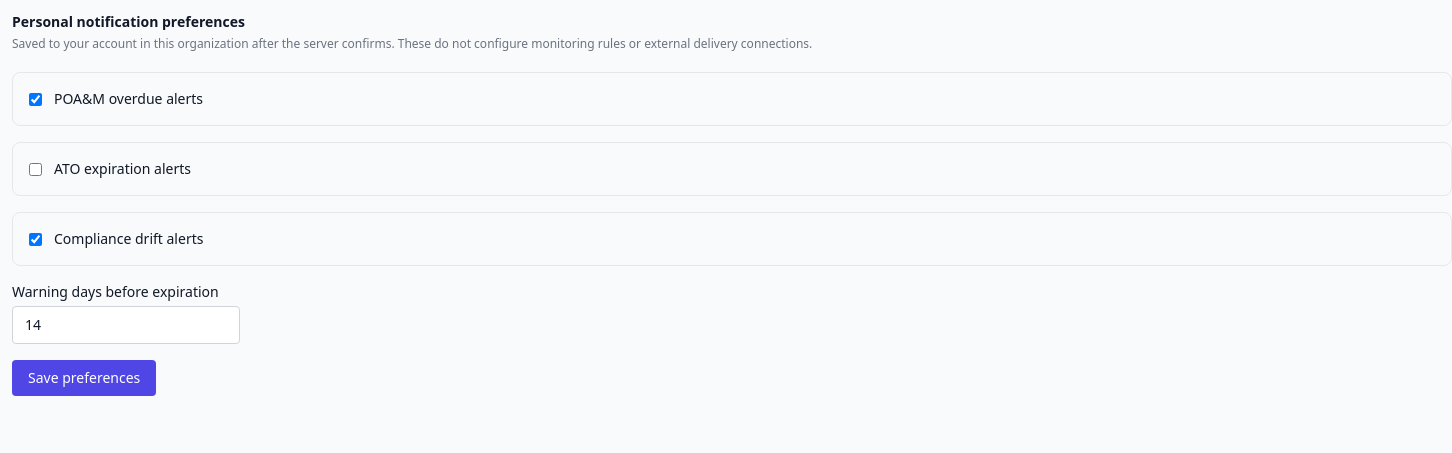
Test: notification preferences contract › retries the unsaved values and shows Saving then Saved only after confirmation
Replace the text in the number field labelled "Warning days before expiration" with "7". click: {"x": 126, "y": 325}
box: [12, 306, 240, 344]
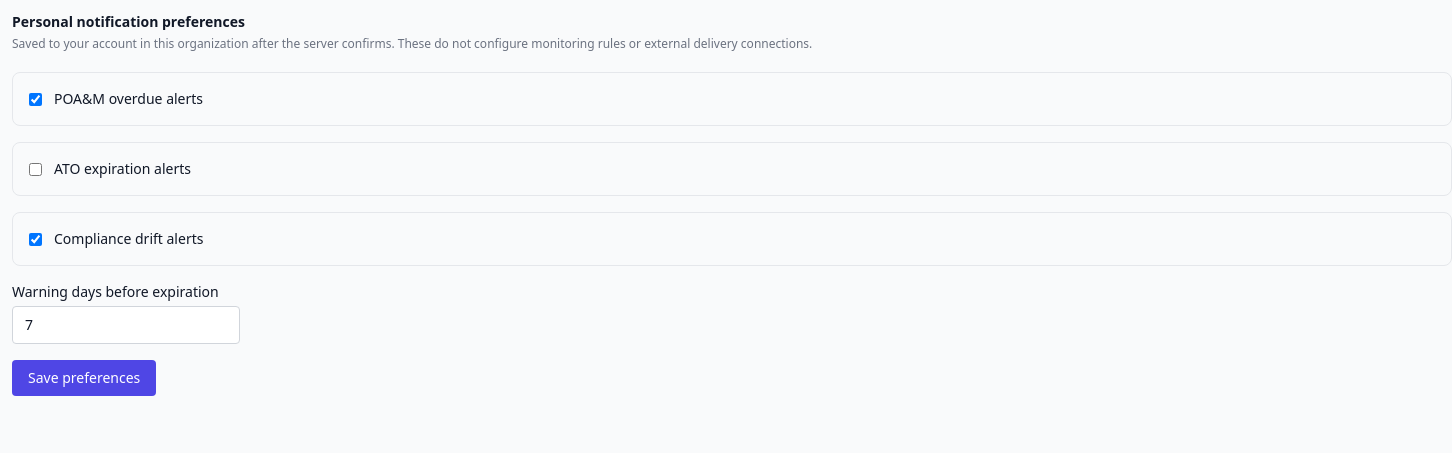
Click the button "Save preferences". click: {"x": 84, "y": 378}
box: [12, 360, 156, 396]
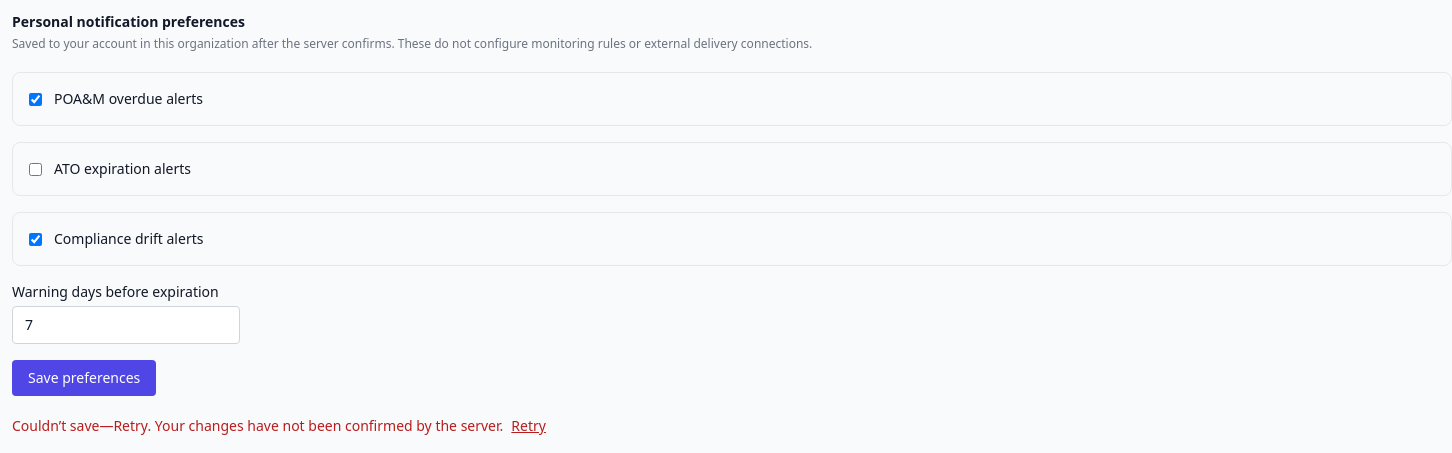
Click the button "Retry". click: {"x": 529, "y": 426}
box: [511, 416, 546, 436]
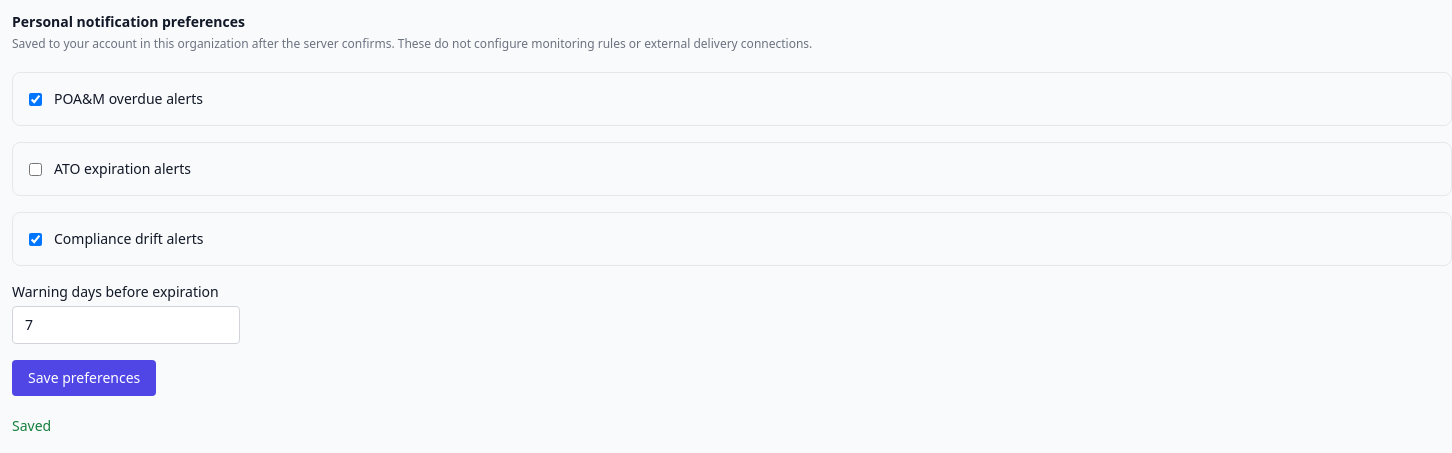
Expected: the text "Saved" is shown, [12, 416, 51, 435]
